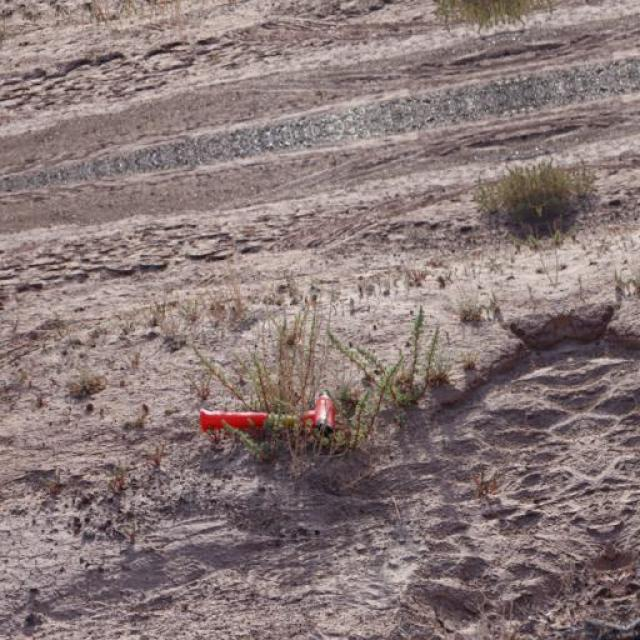mallet: (198, 389, 338, 441)
